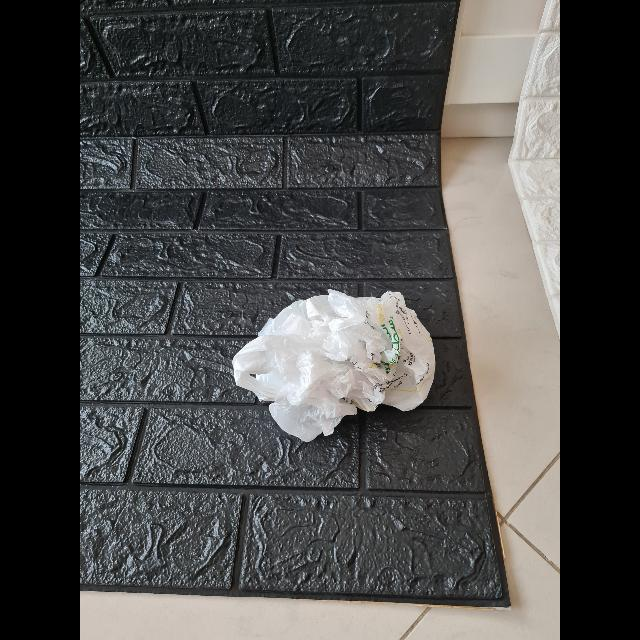plastic_bag: (230, 286, 442, 442)
